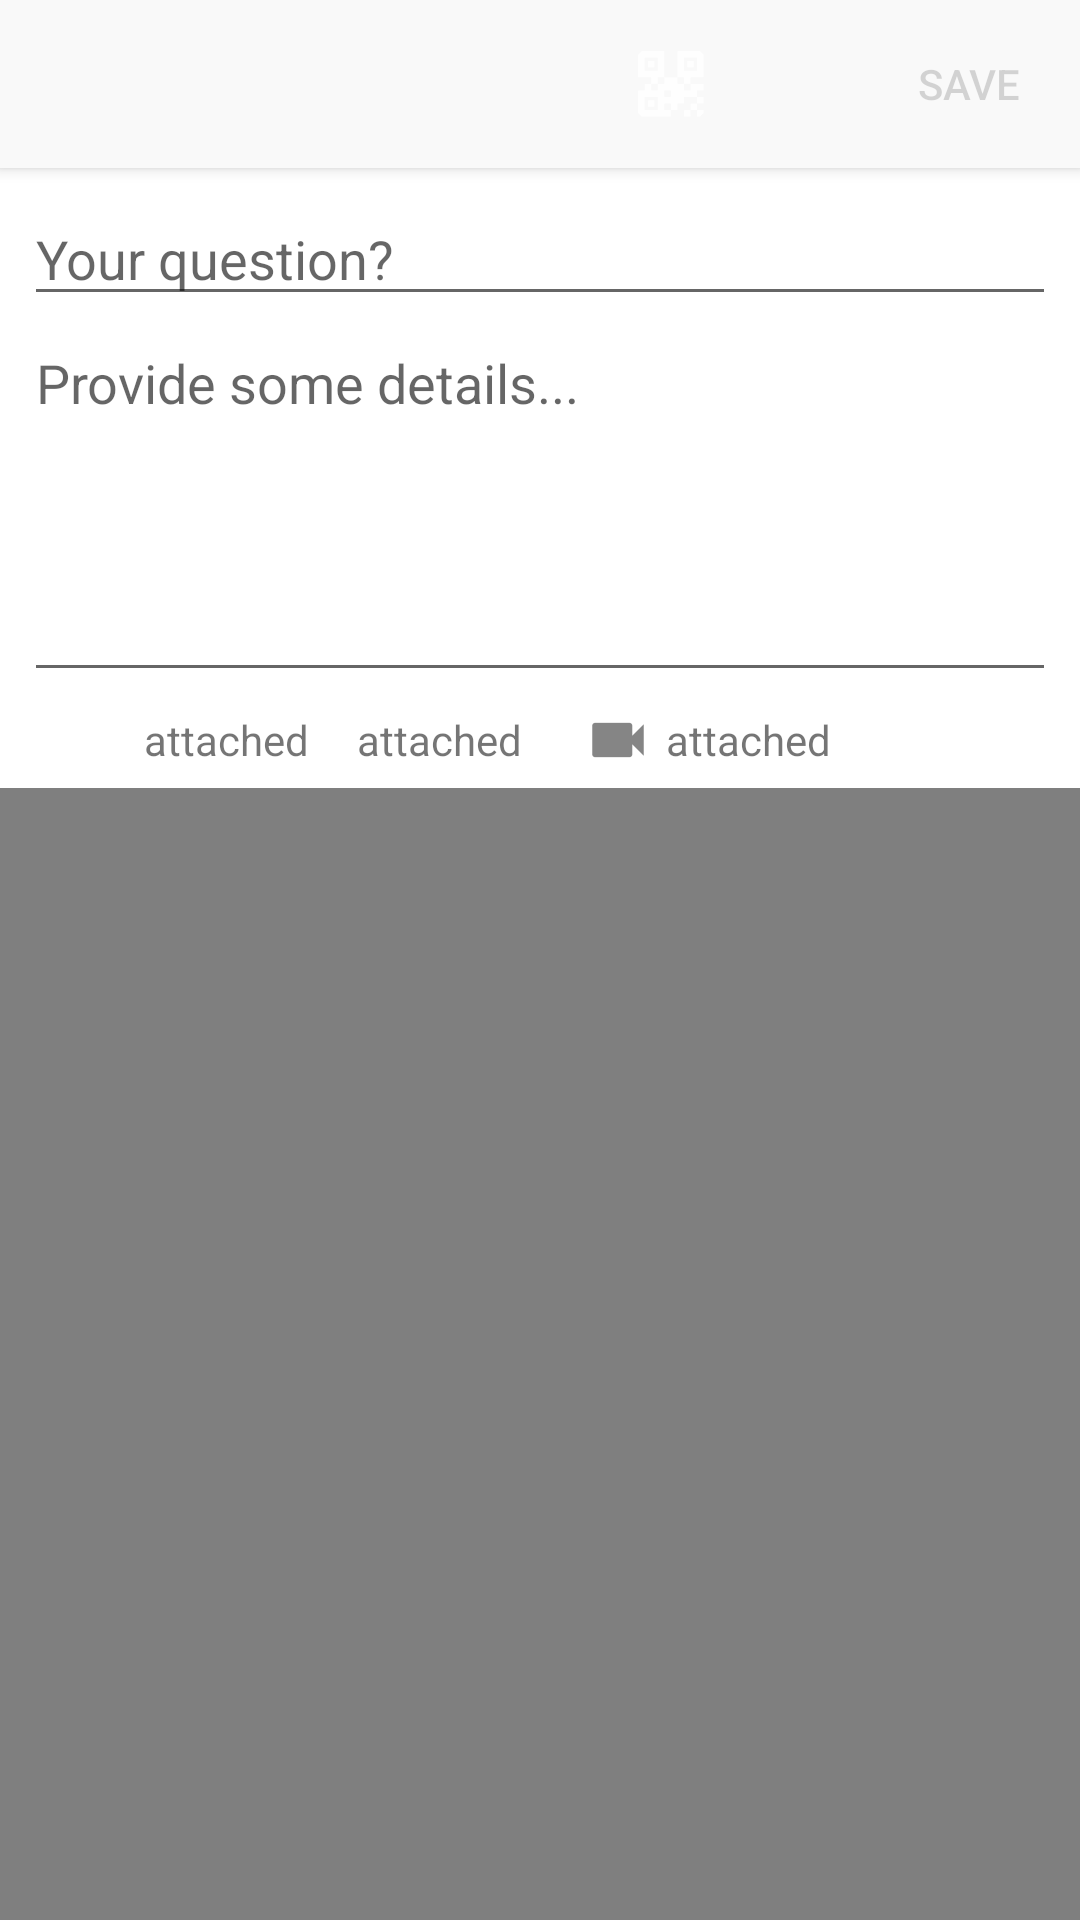

Locate icon controls on the screen. Image size 1080*1920, boxes as (x1, y1, x2, y2).
videocam: (592, 723, 644, 757)
